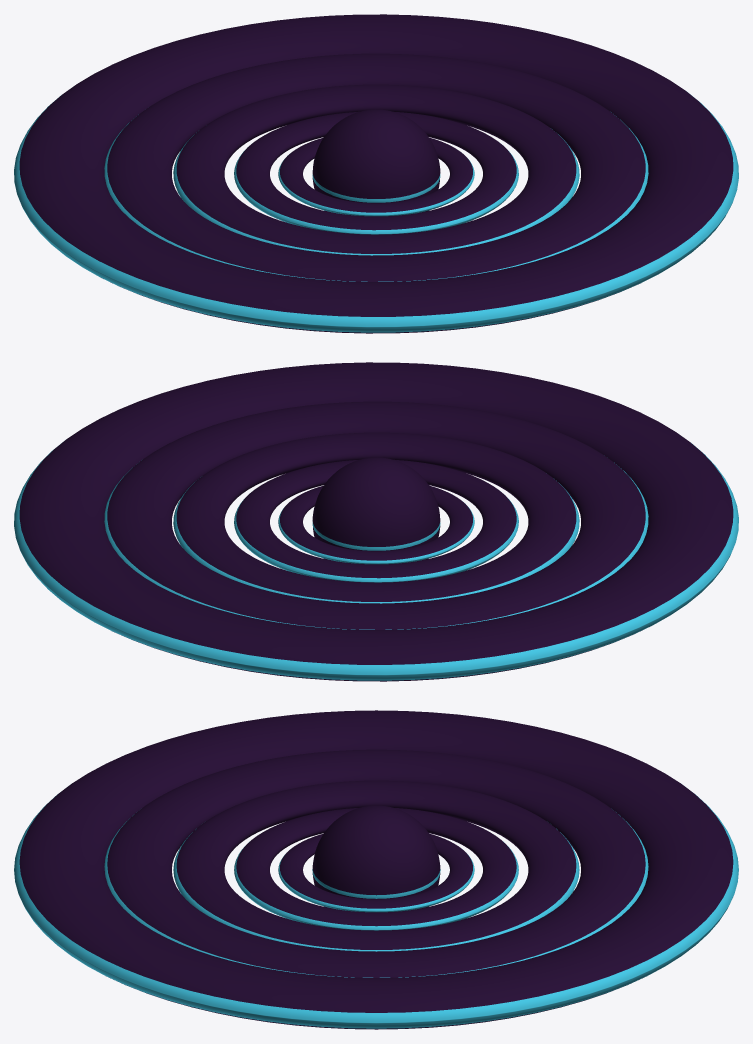
Rendered from trou_noir_export_6.fbx.
3 views of the same model, one above another, from view 1: azimuth 30°, elevation 25°; view 2: azimuth 150°, elevation 25°; view 3: azimuth 270°, elevation 25° (orthographic).
Parts seen in each view (by area): view 1: pTorus7, pTorus6, pTorus5, pTorus4, pSphere1, pTorus1; view 2: pTorus7, pTorus6, pTorus5, pTorus4, pSphere1, pTorus1; view 3: pTorus7, pTorus6, pTorus5, pTorus4, pSphere1, pTorus1.
Part boxes in pixels (left/top/right/bottom): pTorus7: left=14, top=14, right=738, bottom=333; pTorus6: left=104, top=53, right=648, bottom=281; pTorus5: left=173, top=84, right=579, bottom=255; pTorus4: left=234, top=111, right=518, bottom=234; pSphere1: left=312, top=109, right=440, bottom=211; pTorus1: left=278, top=137, right=474, bottom=216; pTorus7: left=14, top=362, right=738, bottom=681; pTorus6: left=104, top=401, right=648, bottom=629; pTorus5: left=173, top=432, right=579, bottom=603; pTorus4: left=234, top=459, right=518, bottom=582; pSphere1: left=312, top=457, right=440, bottom=559; pTorus1: left=278, top=485, right=474, bottom=564; pTorus7: left=14, top=710, right=738, bottom=1029; pTorus6: left=104, top=749, right=648, bottom=977; pTorus5: left=173, top=780, right=579, bottom=951; pTorus4: left=234, top=808, right=518, bottom=930; pSphere1: left=312, top=805, right=440, bottom=907; pTorus1: left=278, top=833, right=474, bottom=912.
Size of the model in its own units: 11.17 by 2 by 11.17.
